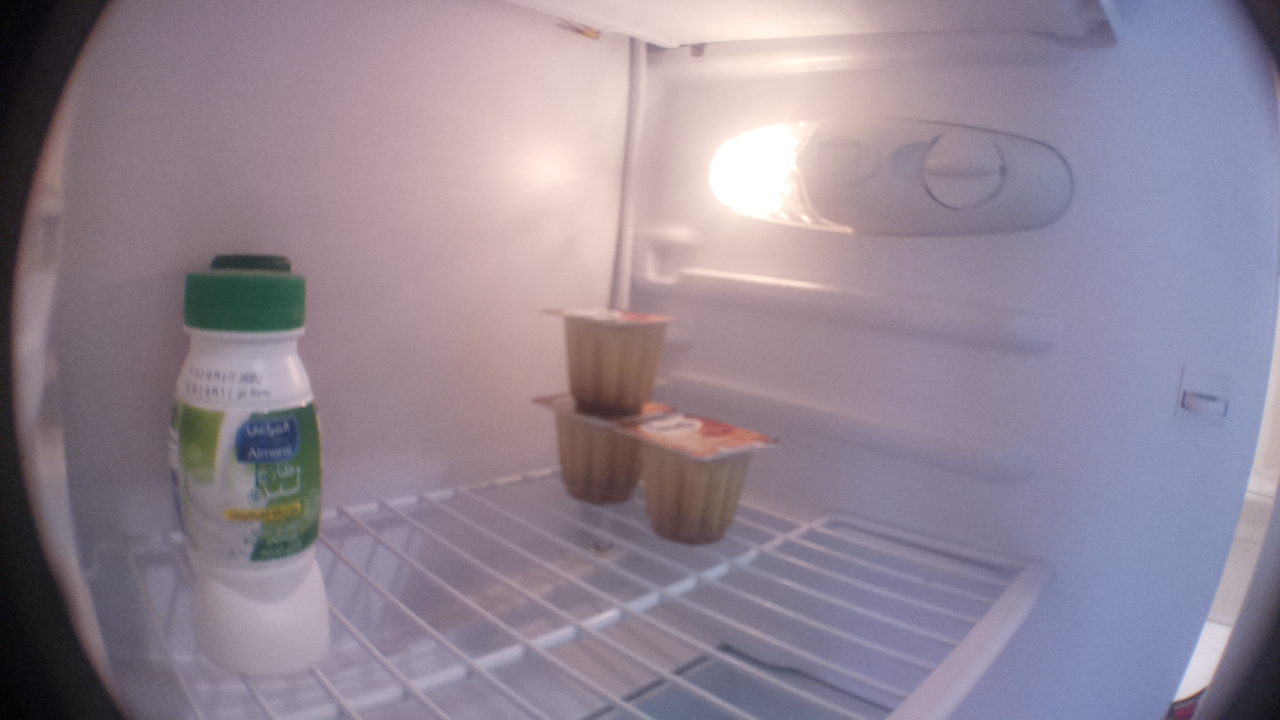caramel: (617, 400, 780, 549), (521, 388, 678, 513), (530, 304, 687, 422)
laban: (161, 267, 339, 683)
